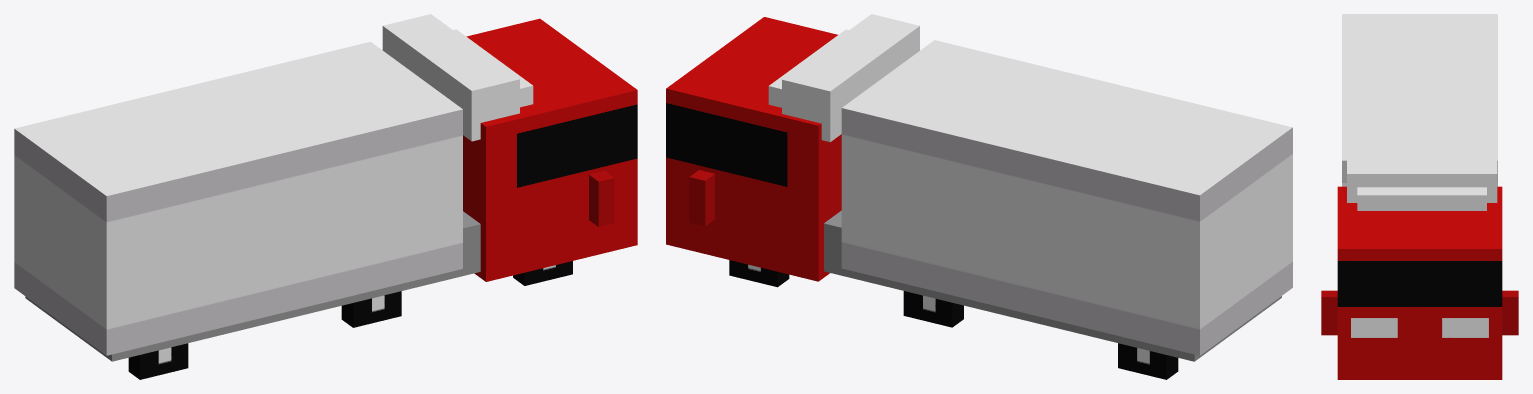
The model's file is truck.obj.
The picture shows the model from 3 angles, left to right: view 1: azimuth 30°, elevation 25°; view 2: azimuth 150°, elevation 25°; view 3: azimuth 270°, elevation 25°; orthographic projection. The views are drawn at different scales.
Visible parts, largest first — view 1: truck:pCube62; view 2: truck:pCube62; view 3: truck:pCube62.
Boxes of the visible parts, x1=… form: truck:pCube62: x1=14, y1=14, x2=637, y2=379; truck:pCube62: x1=666, y1=14, x2=1292, y2=379; truck:pCube62: x1=1321, y1=14, x2=1518, y2=379.
Bounding box in the file's own units: 8.24 × 3.17 × 3.16.
Materials: 1 (1 with a texture image).
